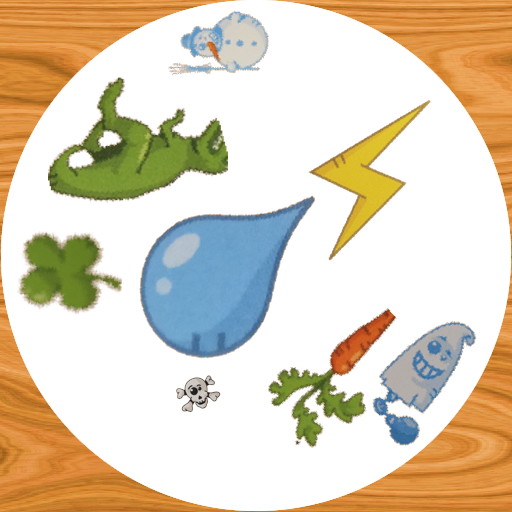carrot_icon: (246, 284, 412, 450)
cloverleaf_icon: (10, 225, 122, 337)
dino_icon: (48, 76, 228, 256)
ghost_icon: (353, 306, 496, 449)
lightning_icon: (285, 85, 463, 263)
raindrop_icon: (129, 179, 320, 370)
skull_icon: (174, 368, 223, 417)
snowman_icon: (167, 1, 270, 104)
